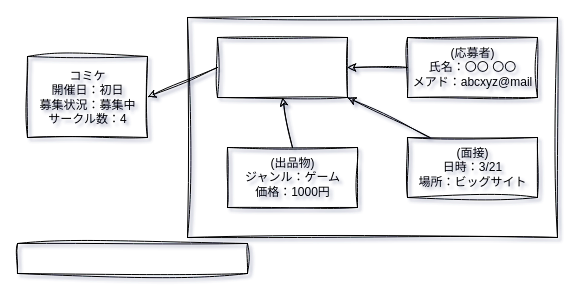
This 581x297 diagram has some shape labels left out. The centre of each missing label's shape, as x and y in pixels:
(採用選考) 選考状況：選考中 応募日：3/9: the point at 282,67
※本来のシステムとまったく異なります: the point at 132,258
